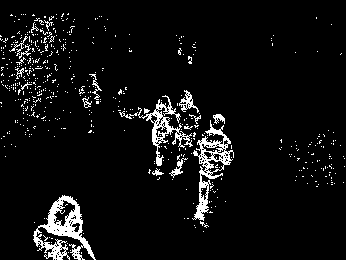person: (195, 114, 235, 227), (32, 194, 98, 259), (172, 89, 200, 179), (151, 95, 176, 176), (78, 74, 102, 134)
